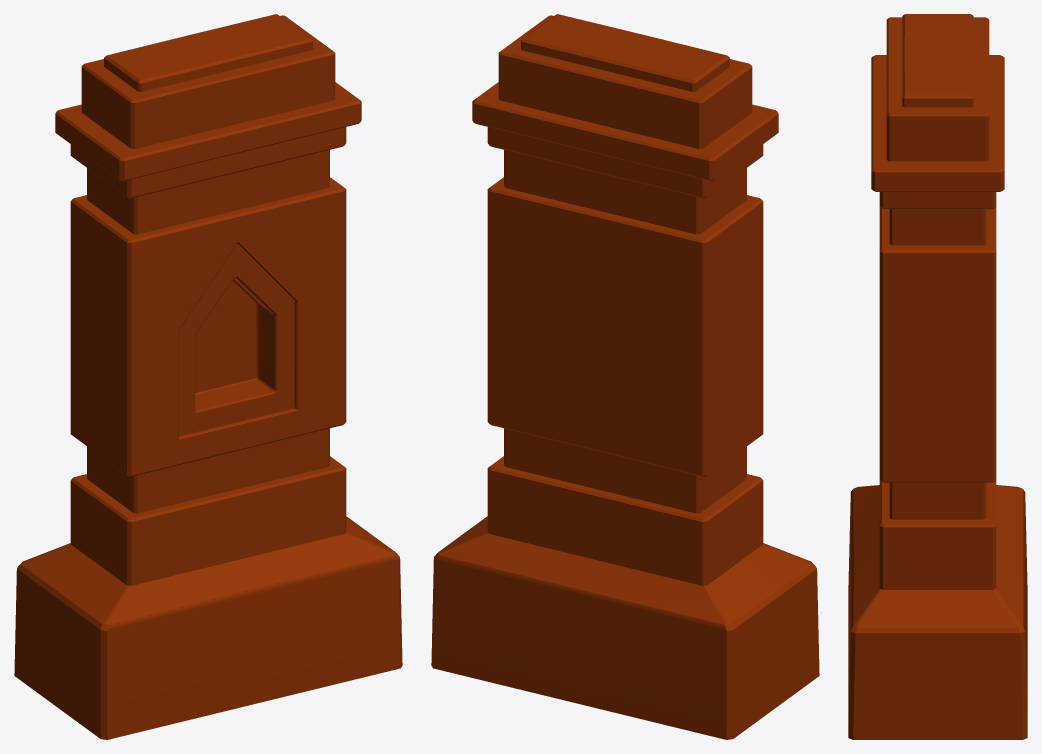
File: Tomb_06.fbx
The picture shows the model from 3 angles, left to right: view 1: azimuth 30°, elevation 25°; view 2: azimuth 150°, elevation 25°; view 3: azimuth 270°, elevation 25°; orthographic projection.
Visible parts, largest first — view 1: Tomb_06; view 2: Tomb_06; view 3: Tomb_06.
Part boxes in pixels (x1=…): Tomb_06: x1=14, y1=14, x2=402, y2=739; Tomb_06: x1=431, y1=14, x2=819, y2=739; Tomb_06: x1=848, y1=14, x2=1027, y2=739.
Size of the model in its own units: 0.7117 by 1.41 by 0.3733.
